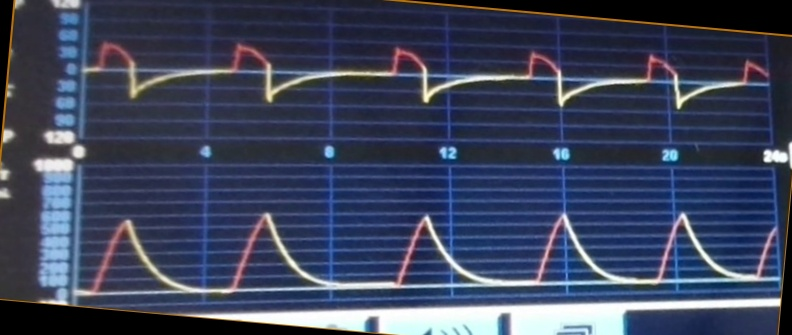Normal Flow: (88, 36, 769, 126)
Normal Volume: (81, 205, 777, 298)
